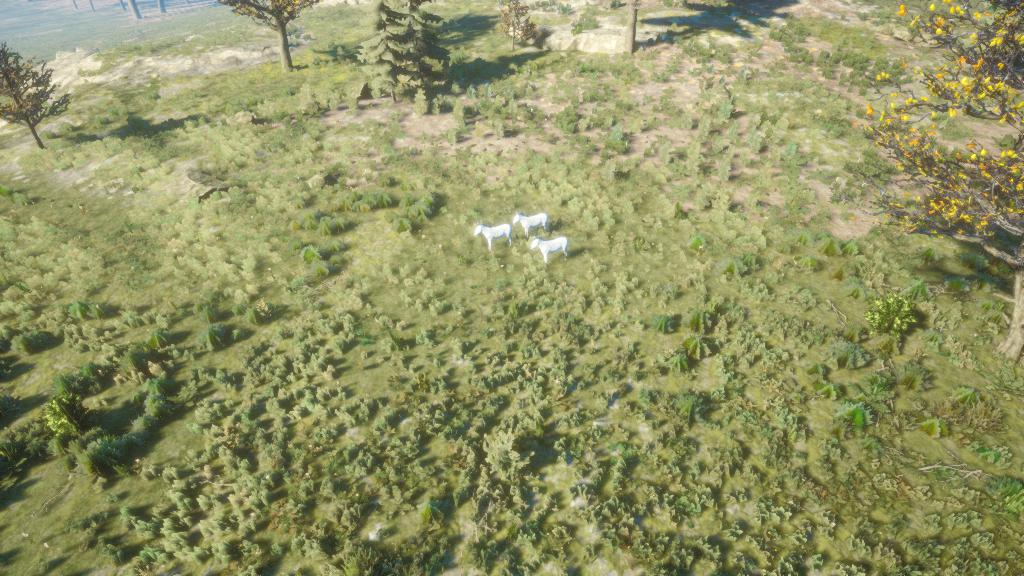zebra: (470, 218, 516, 255), (510, 208, 552, 243), (524, 235, 573, 263)
